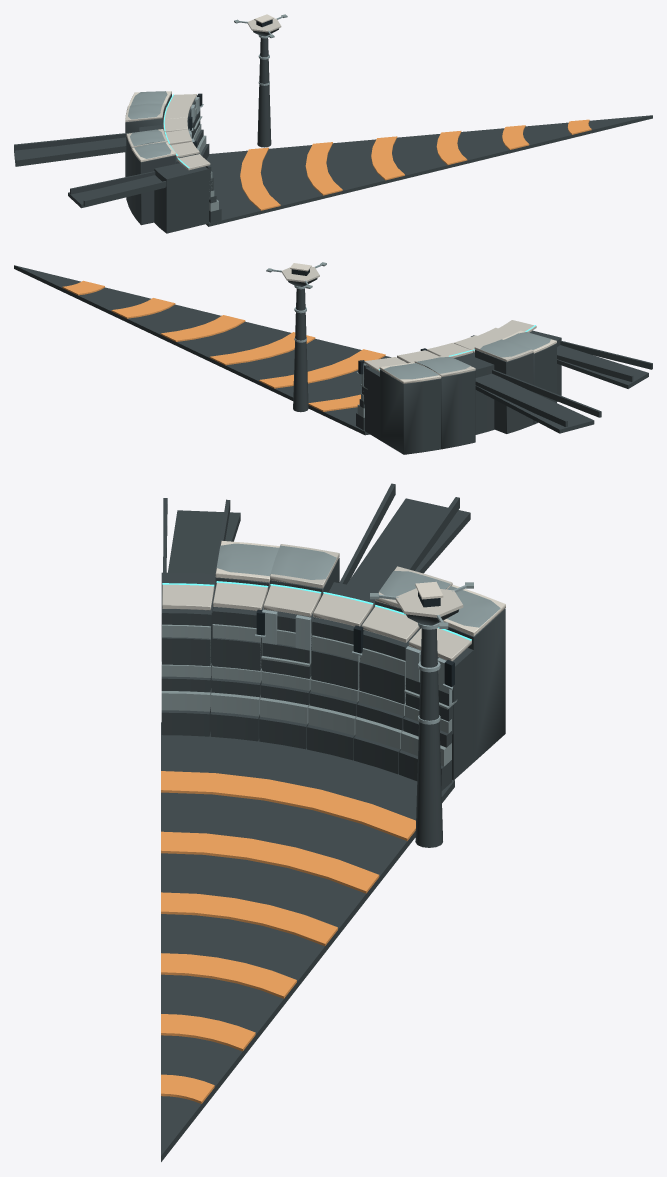
Rendered from Weather_Lung_Sector_05_Structure.glb.
3 renders of one model, top to bottom at view 1: azimuth 30°, elevation 25°; view 2: azimuth 150°, elevation 25°; view 3: azimuth 270°, elevation 25°, orthographic. The views are drawn at different scales.
Parts seen in each view (by area): view 1: Weather_Lung_Sector_05_Structure; view 2: Weather_Lung_Sector_05_Structure; view 3: Weather_Lung_Sector_05_Structure.
Part boxes in pixels (x1,y1,x2,y2): Weather_Lung_Sector_05_Structure: [14, 14, 652, 233]; Weather_Lung_Sector_05_Structure: [14, 262, 652, 454]; Weather_Lung_Sector_05_Structure: [161, 483, 505, 1161].
Bounding box in the file's own units: 12964 × 2771 × 3342.
